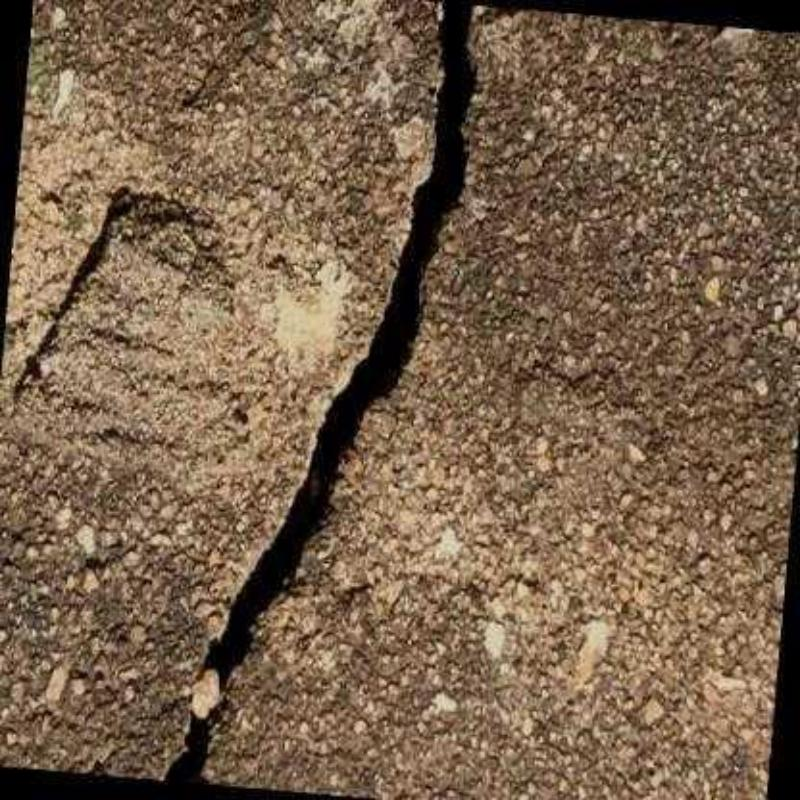pothole: (201, 2, 482, 699), (166, 707, 210, 784)
